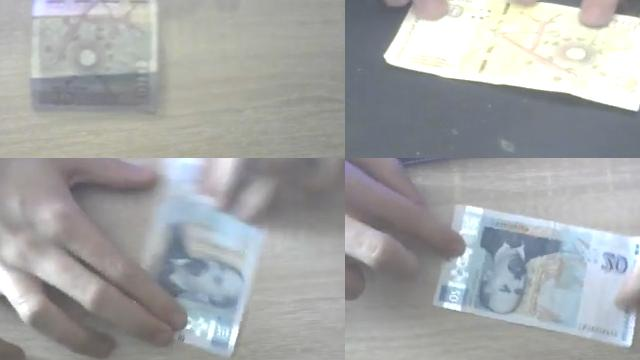10leva: (383, 0, 640, 112), (28, 0, 158, 112)
20leva: (434, 206, 640, 348), (145, 182, 265, 358)
